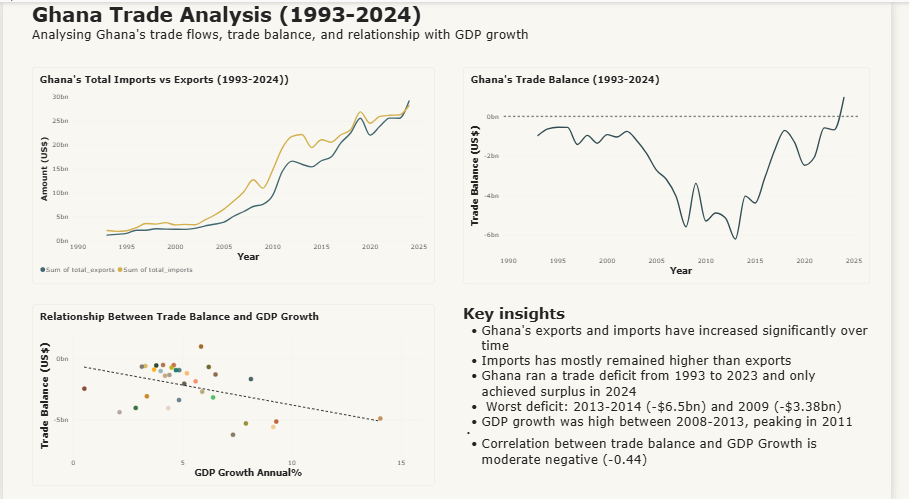

The dashboard page shown, as its layout file describes it:
{"tool":"powerbi","page":{"name":"Page 1","canvas":[1920,1080],"ordinal":0},"visuals":[{"type":"lineChart","title":"Ghana''s Total Imports vs Exports (1993-2024))","fields":{"Category":["Trade.year"],"Y":["Sum(Trade.total_exports)","Sum(Trade.total_imports)"]},"box":[62.6,140.4,870.5,468.7],"z":0},{"type":"lineChart","title":"Ghana''s Trade Balance (1993-2024)","fields":{"Category":["Trade.year"],"Y":["Sum(Trade.trade_balance)"]},"box":[993.6,140.4,879.1,468.7],"z":1000},{"type":"scatterChart","title":"Relationship Between Trade Balance and GDP Growth","fields":{"Series":["Trade.year"],"X":["Avg(Trade.gdp_growth_pct)"],"Y":["Sum(Trade.trade_balance)"]},"box":[62.6,652.3,870.5,393.1],"z":2000},{"type":"textbox","box":[993.6,652.3,879.1,393.1],"z":2001},{"type":"textbox","box":[62.6,0,1810.1,110.2],"z":2002}]}

Visuals, with their boxes in screenshot pixels (x1, y1, x2, y2), scaled from the page's 1920x1080 canvas onto the 909x499 screenshot:
"Ghana''s Total Imports vs Exports (1993-2024))" lineChart: bbox=[30, 65, 442, 281]
"Ghana''s Trade Balance (1993-2024)" lineChart: bbox=[470, 65, 887, 281]
"Relationship Between Trade Balance and GDP Growth" scatterChart: bbox=[30, 301, 442, 483]
textbox: bbox=[470, 301, 887, 483]
textbox: bbox=[30, 0, 887, 51]
